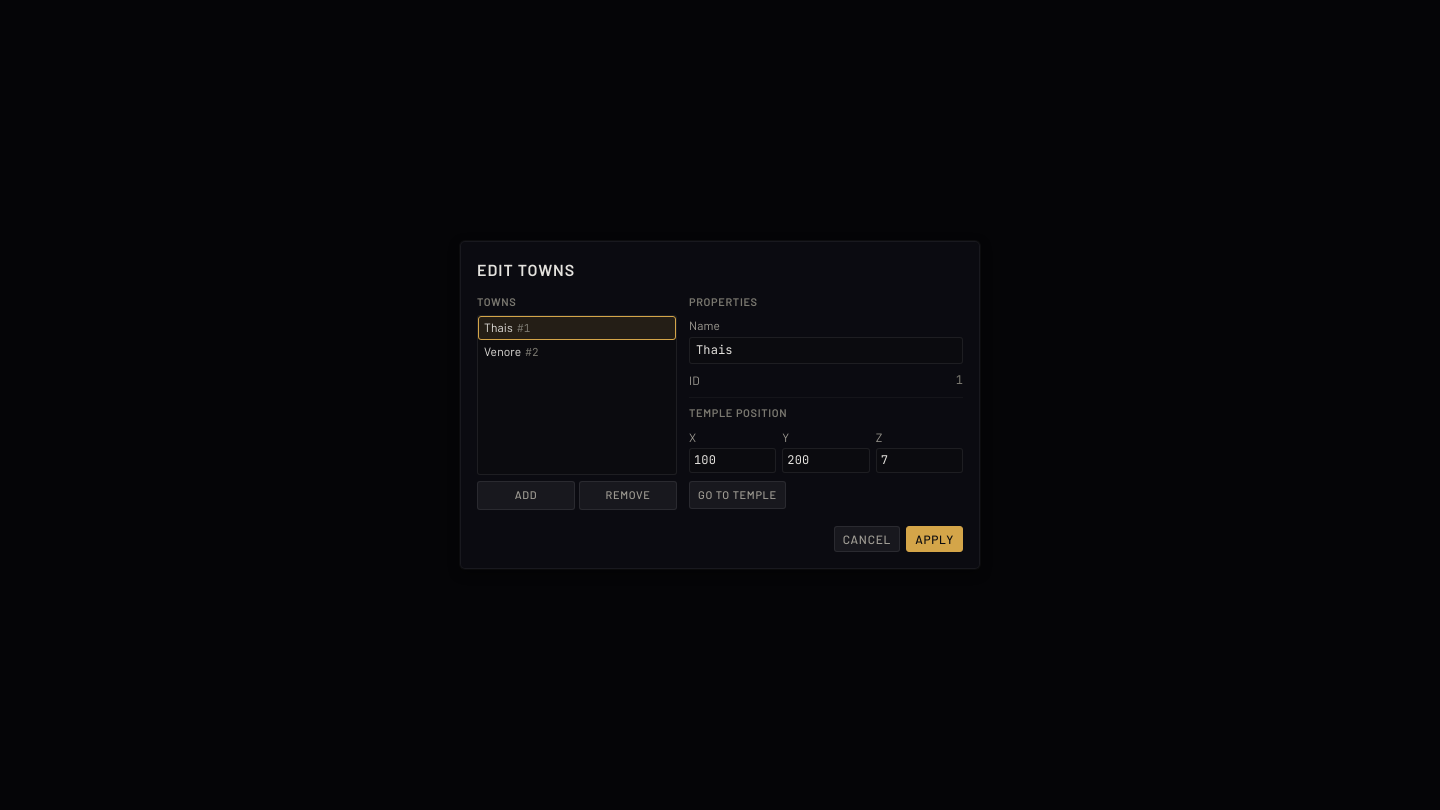
Test: EditTownsModal › delete town succeeds when no houses reference it
The width and height of the screenshot is (1440, 810).
Step 1. Click the button "Remove" → (628, 496), box [579,481,677,510]
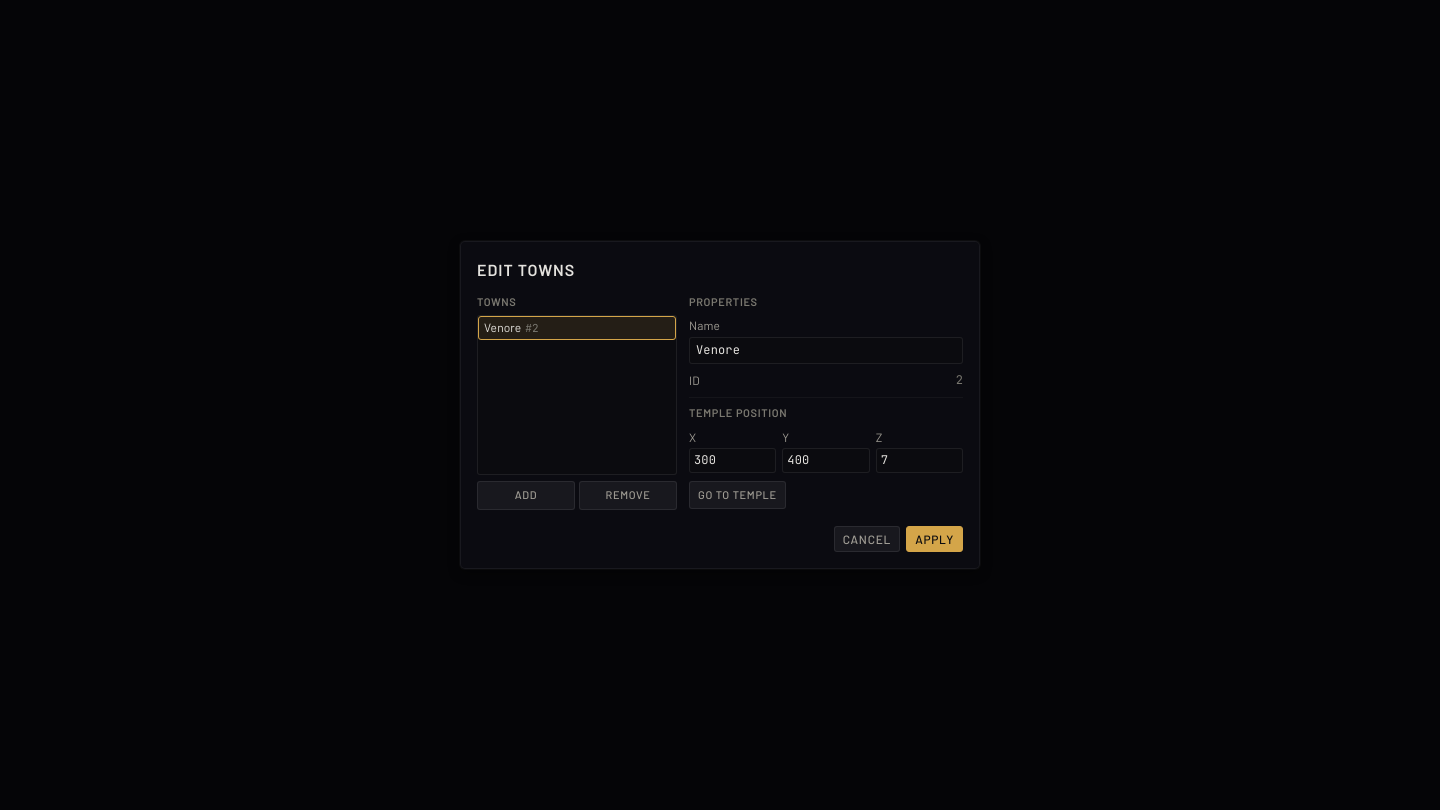
Now the button "Thais" is gone
